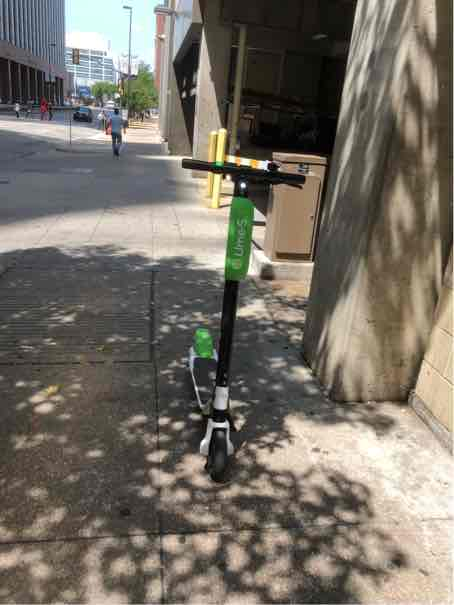scooter: (172, 152, 321, 482)
